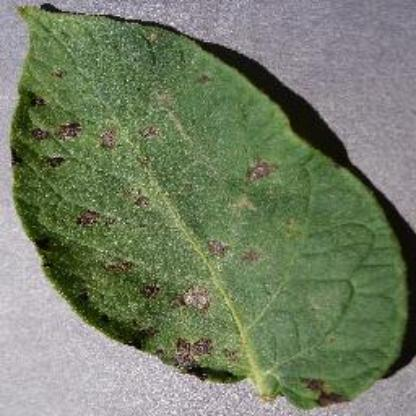Early-Blight: (15, 4, 412, 408)
